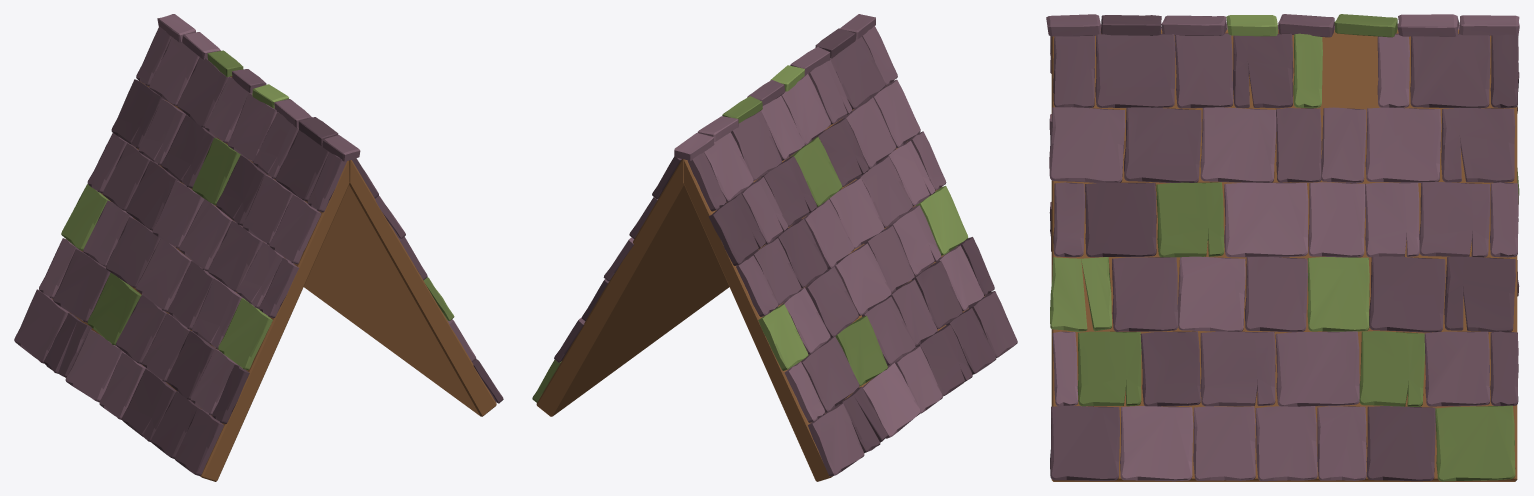
The model's file is main_roof.glb.
3 renders of one model, left to right at view 1: azimuth 30°, elevation 25°; view 2: azimuth 150°, elevation 25°; view 3: azimuth 270°, elevation 25°, orthographic. The views are drawn at different scales.
Parts seen in each view (by area): view 1: Main Roof | Tiles, Main Roof | Wood; view 2: Main Roof | Tiles, Main Roof | Wood; view 3: Main Roof | Tiles, Main Roof | Wood.
Part boxes in pixels (x1=…): Main Roof | Tiles: x1=14, y1=14, x2=503, y2=476; Main Roof | Wood: x1=52, y1=76, x2=496, y2=481; Main Roof | Tiles: x1=532, y1=14, x2=1017, y2=476; Main Roof | Wood: x1=536, y1=109, x2=985, y2=481; Main Roof | Tiles: x1=1046, y1=14, x2=1519, y2=481; Main Roof | Wood: x1=1051, y1=29, x2=1517, y2=481.
Size of the model in its own units: 5.82 by 5.4 by 6.09.
